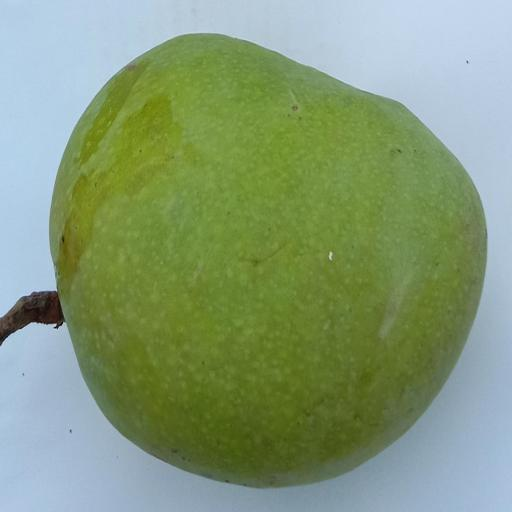mango-unripe: (27, 24, 497, 503)
